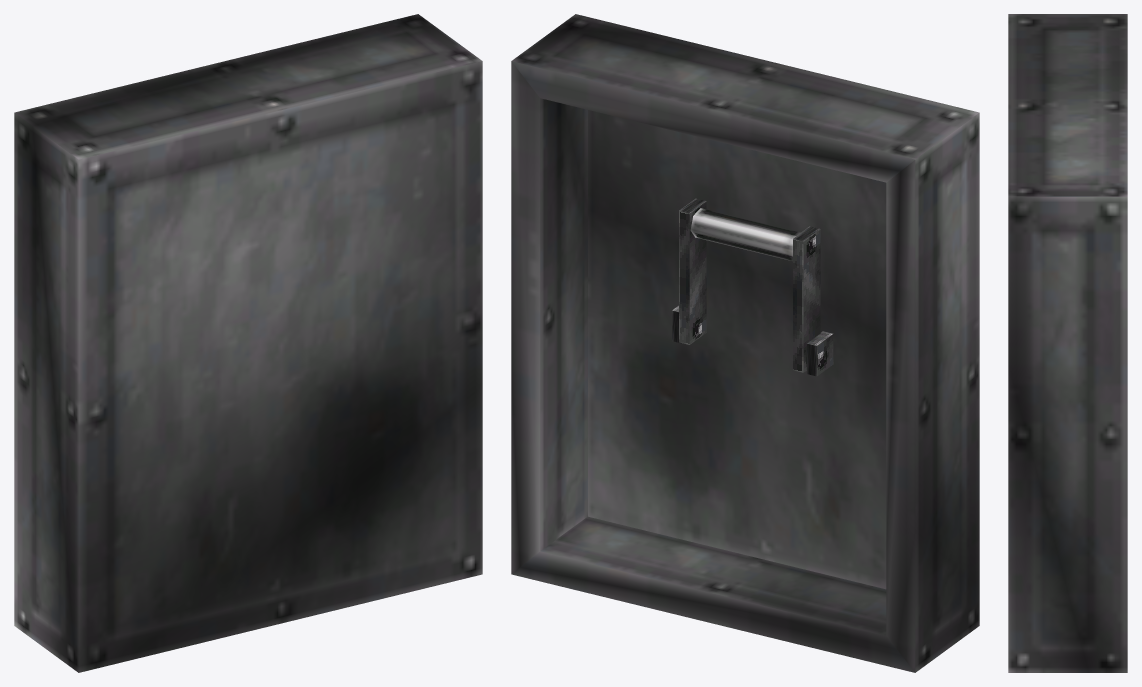
Rendered from INST_SWORDLIGHT_LOCKBOX_BROKE+LEVER.fbx.
3 views of the same model, side by side, from view 1: azimuth 30°, elevation 25°; view 2: azimuth 150°, elevation 25°; view 3: azimuth 270°, elevation 25° (orthographic). The views are drawn at different scales.
Parts seen in each view (by area): view 1: INST_SWORDLIGHT_LOCKBOX_BROKE+LEVER; view 2: INST_SWORDLIGHT_LOCKBOX_BROKE+LEVER; view 3: INST_SWORDLIGHT_LOCKBOX_BROKE+LEVER.
Boxes of the visible parts, left/top/right/bottom form: INST_SWORDLIGHT_LOCKBOX_BROKE+LEVER: left=14, top=14, right=482, bottom=672; INST_SWORDLIGHT_LOCKBOX_BROKE+LEVER: left=511, top=14, right=979, bottom=672; INST_SWORDLIGHT_LOCKBOX_BROKE+LEVER: left=1008, top=14, right=1127, bottom=672.
Bounding box in the file's own units: 7000 × 8500 × 1931.
3 materials, 3 textured.
